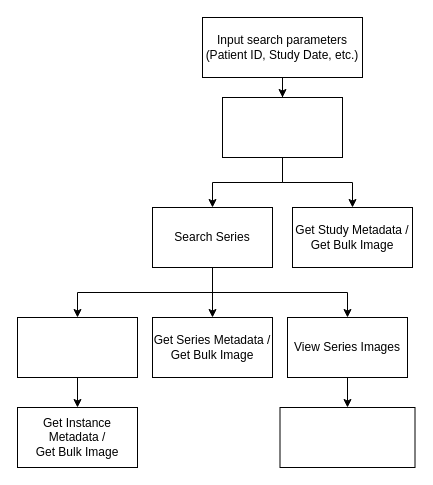
The diagram is 433 pixels wide and 485 high, and some of its shapes have lost their labels. The shapes that lost their labels are listed below. From the top down, each one's centre as x and y in pixels, then its label:
At point (282, 127): "Search Study".
At point (77, 347): "Search Instance".
At point (347, 437): "DICOM Image Viewer".
